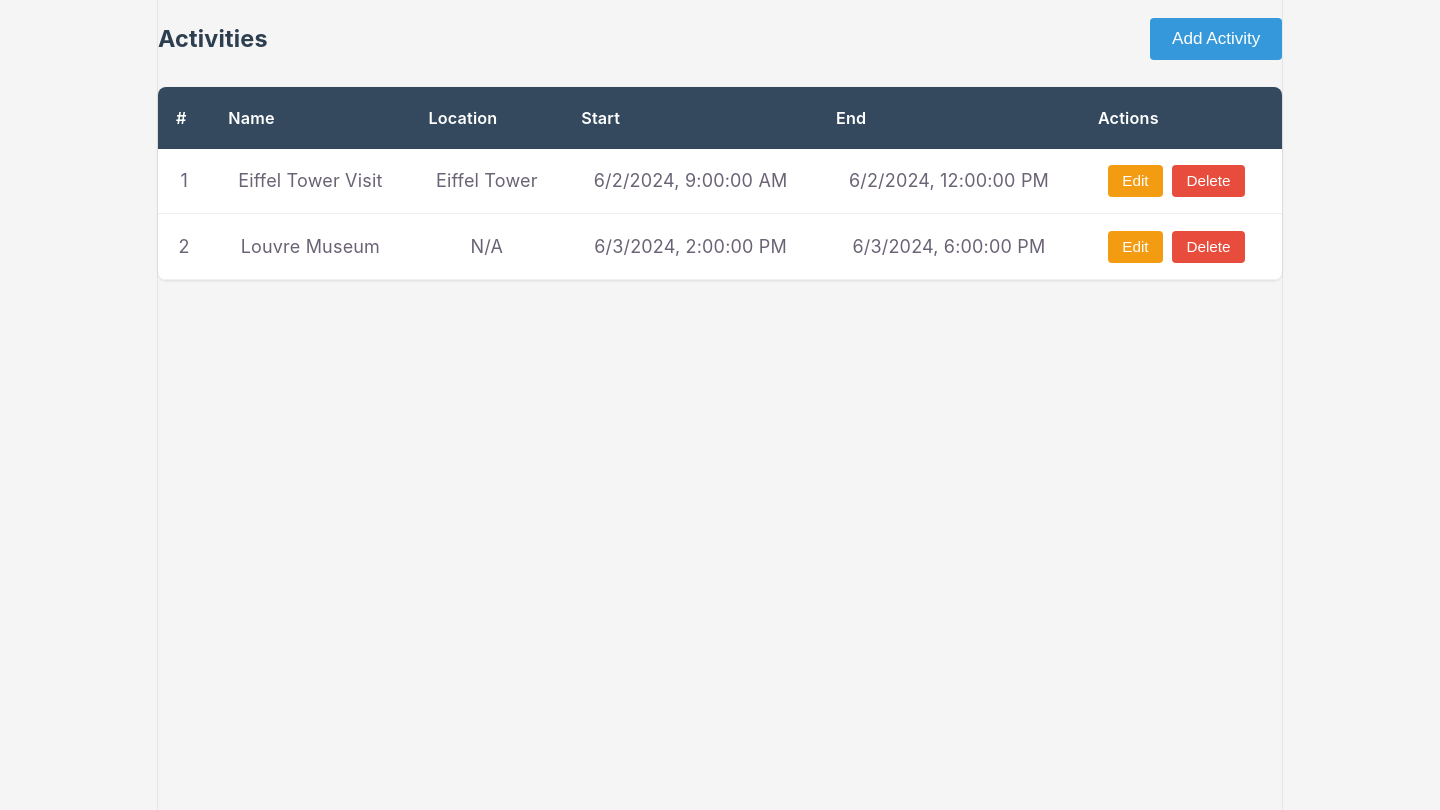
Test: ActivityList › toggles the add activity form when Add Activity is clicked
Check: the field with placeholder "Search for a city or place..." is not shown
Click the button "Add Activity": (1216, 39) x1=1150 y1=18 x2=1282 y2=60
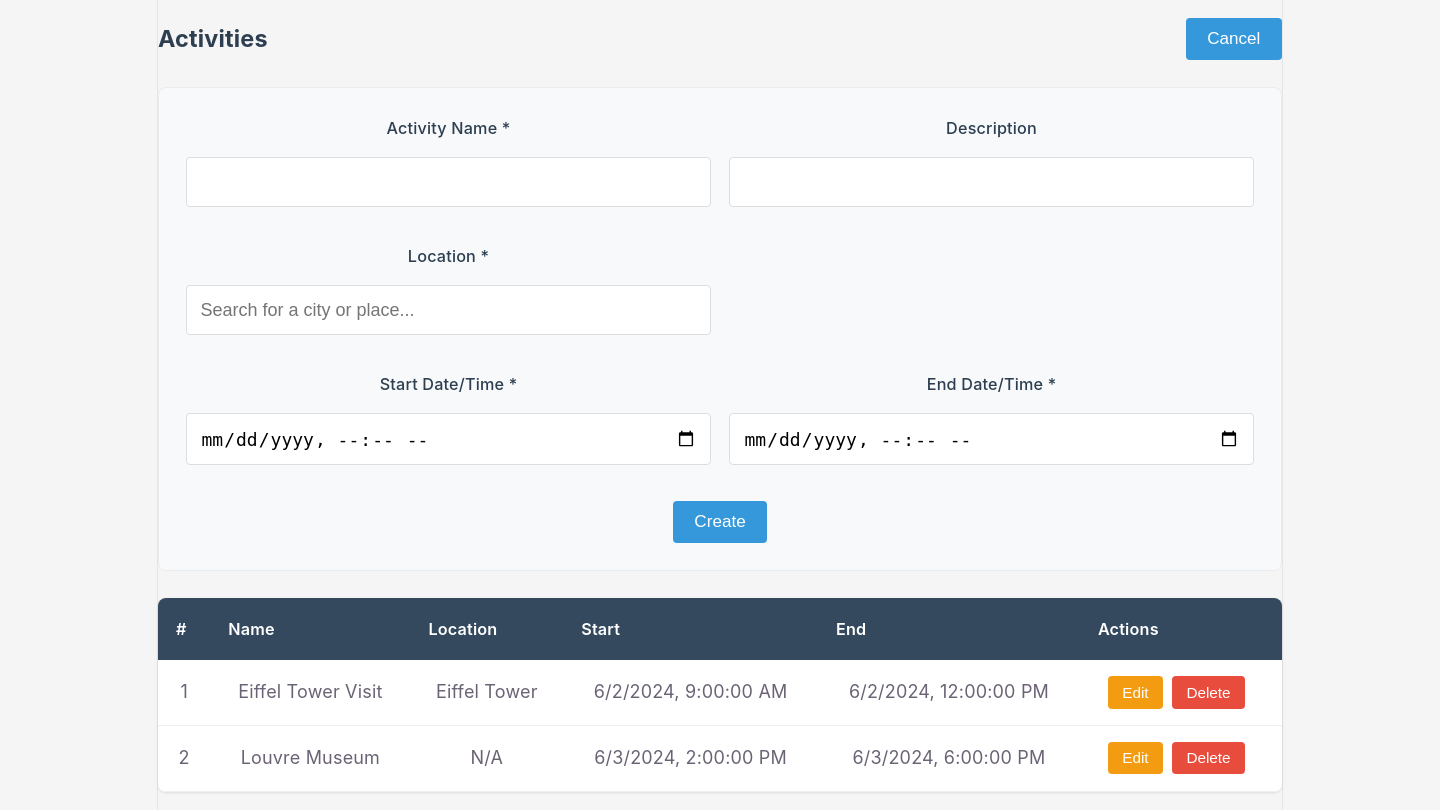
Check: the field with placeholder "Search for a city or place..." is shown, box x1=186 y1=285 x2=711 y2=335
